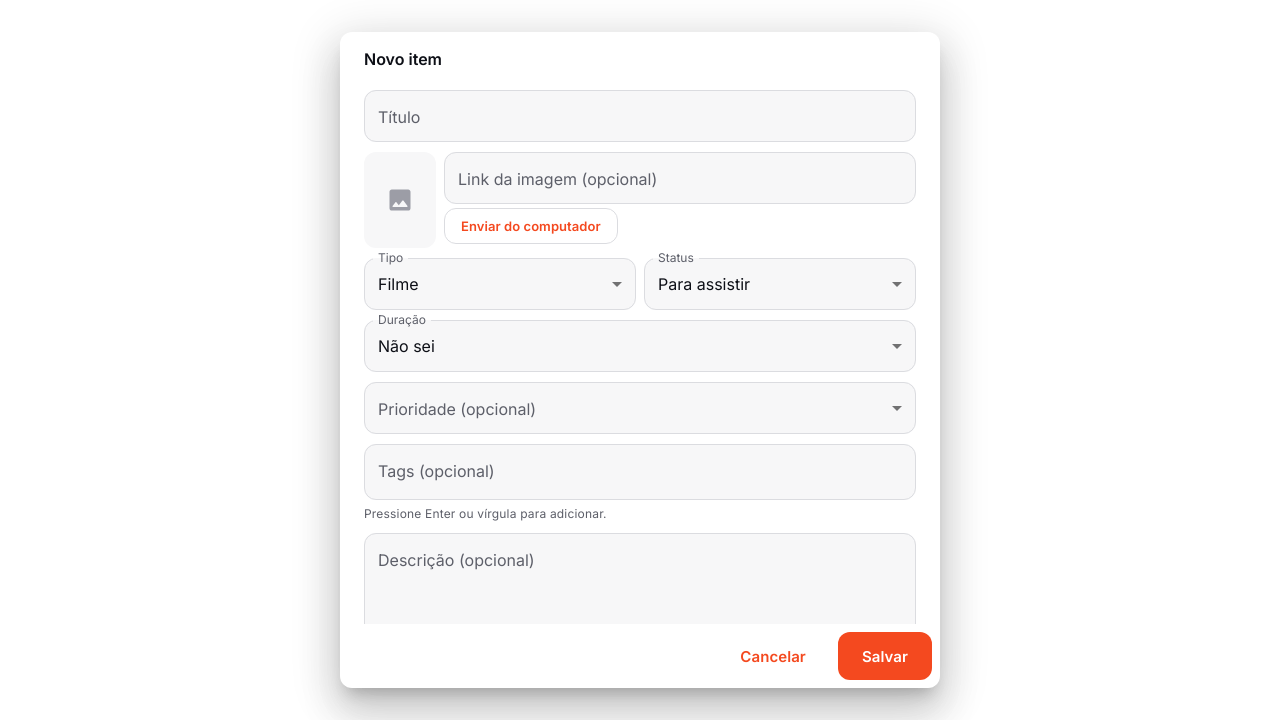
it: LeisureItemDialog › shows author/pages fields only for a book
expect the field labelled "Autor" is not shown: met
Step 1. Click the dropdown named "Tipo" → (398,284), box [378,274,418,294]
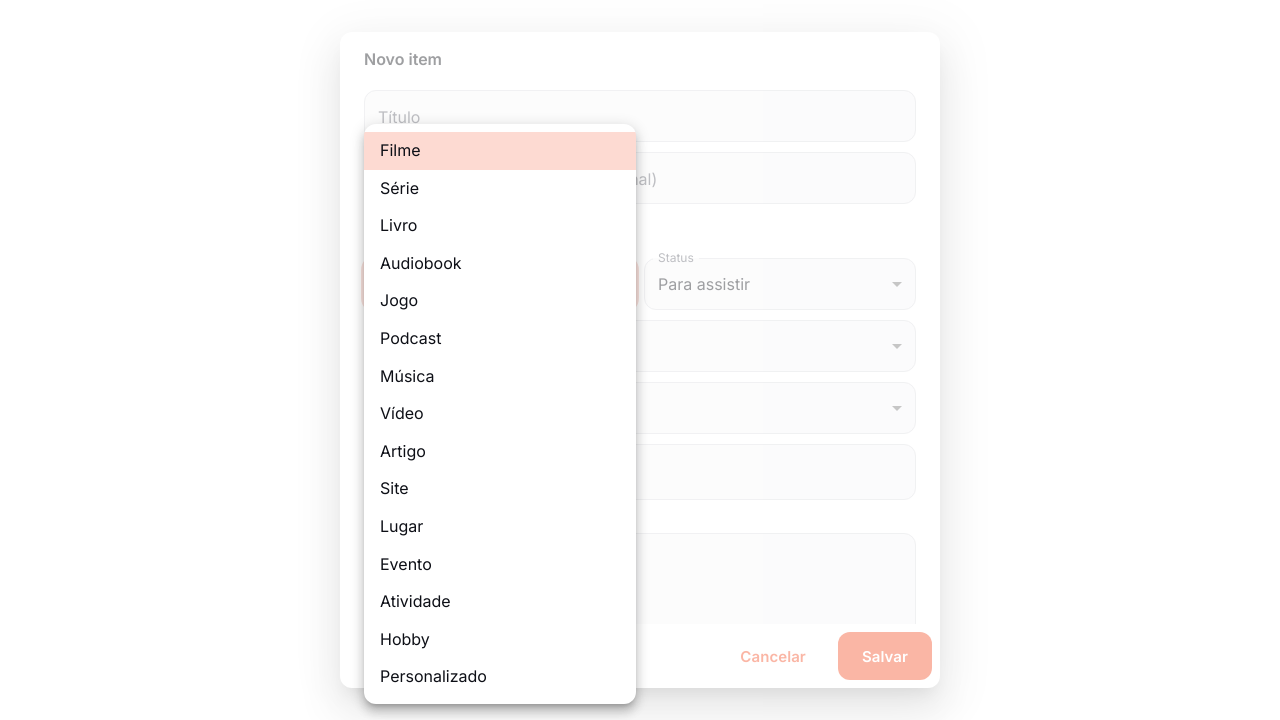
Step 2. Click the option "Livro" → (399,225), box [380,215,417,235]
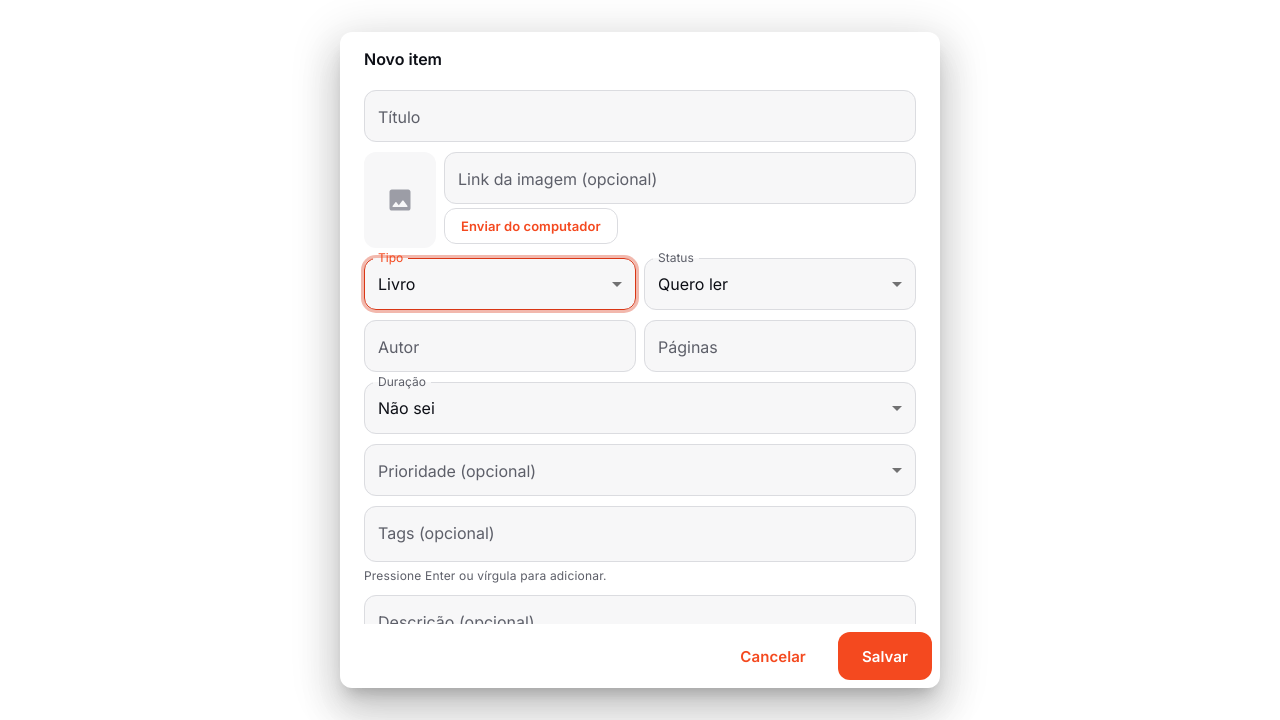
expect the field labelled "Autor" is shown: met, box [364,321,636,372]
expect the number field labelled "Páginas" is shown: met, box [644,321,916,372]
